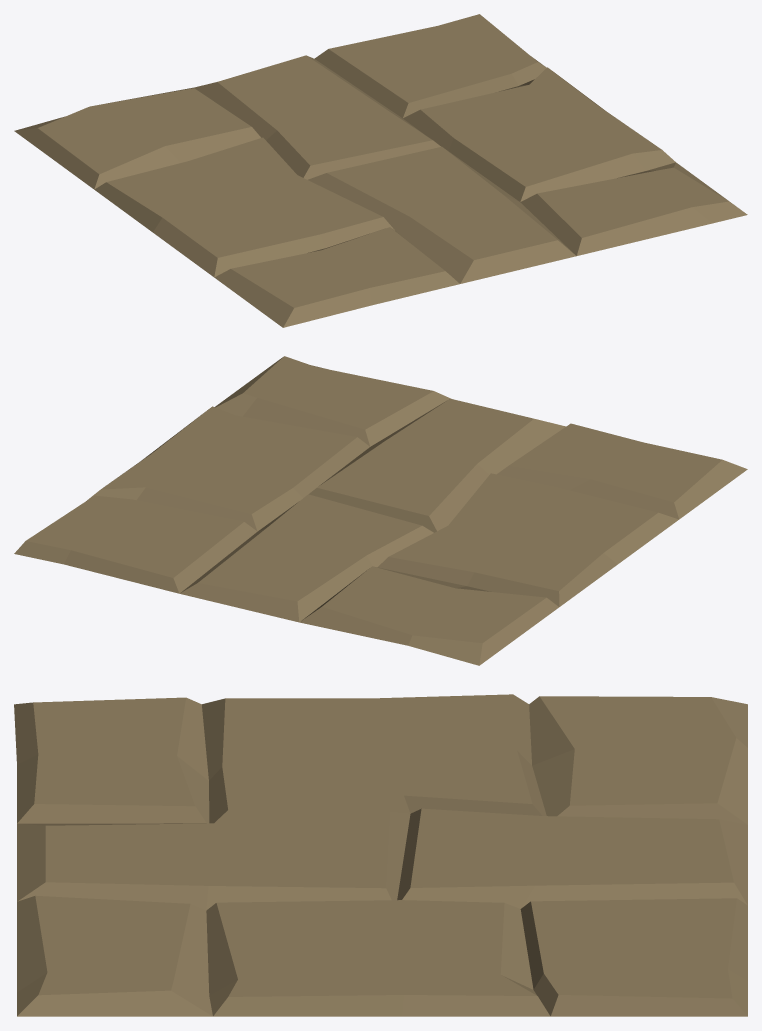
Rendered from Wall_Small_3_low.fbx.
3 views of the same model, one above another, from view 1: azimuth 30°, elevation 25°; view 2: azimuth 150°, elevation 25°; view 3: azimuth 270°, elevation 25° (orthographic). The views are drawn at different scales.
Parts seen in each view (by area): view 1: Wall_Small_3_low; view 2: Wall_Small_3_low; view 3: Wall_Small_3_low.
Part boxes in pixels (left/top/right/bottom): Wall_Small_3_low: left=14, top=14, right=747, bottom=327; Wall_Small_3_low: left=14, top=356, right=747, bottom=665; Wall_Small_3_low: left=14, top=694, right=747, bottom=1016.
Size of the model in its own units: 1 by 0.0243 by 1.
